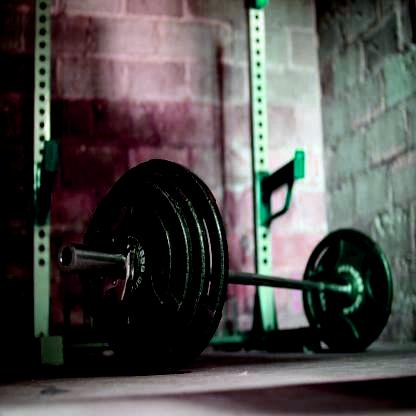Barbell: (54, 237, 83, 276)
